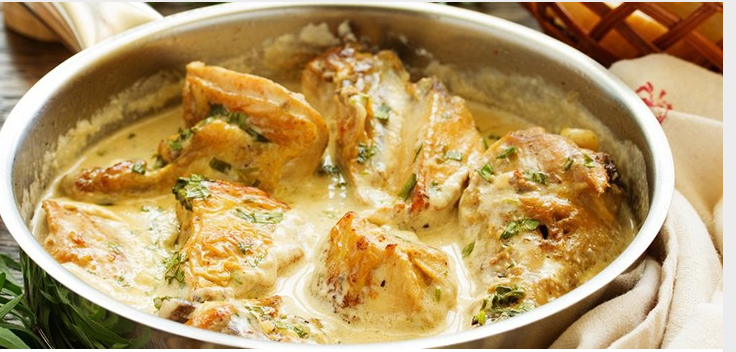creme: (286, 179, 330, 275)
feuilles vetes: (505, 218, 536, 232)
poulet en friasse: (182, 64, 260, 303)
